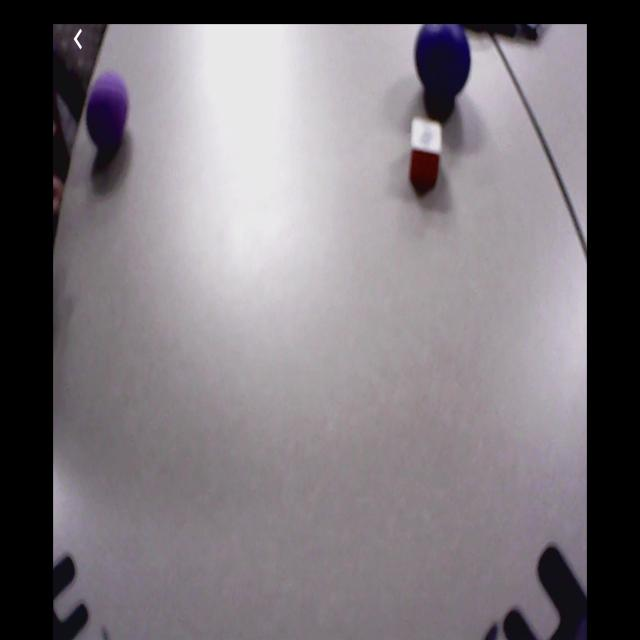ball: (415, 25, 472, 101), (86, 77, 131, 147)
